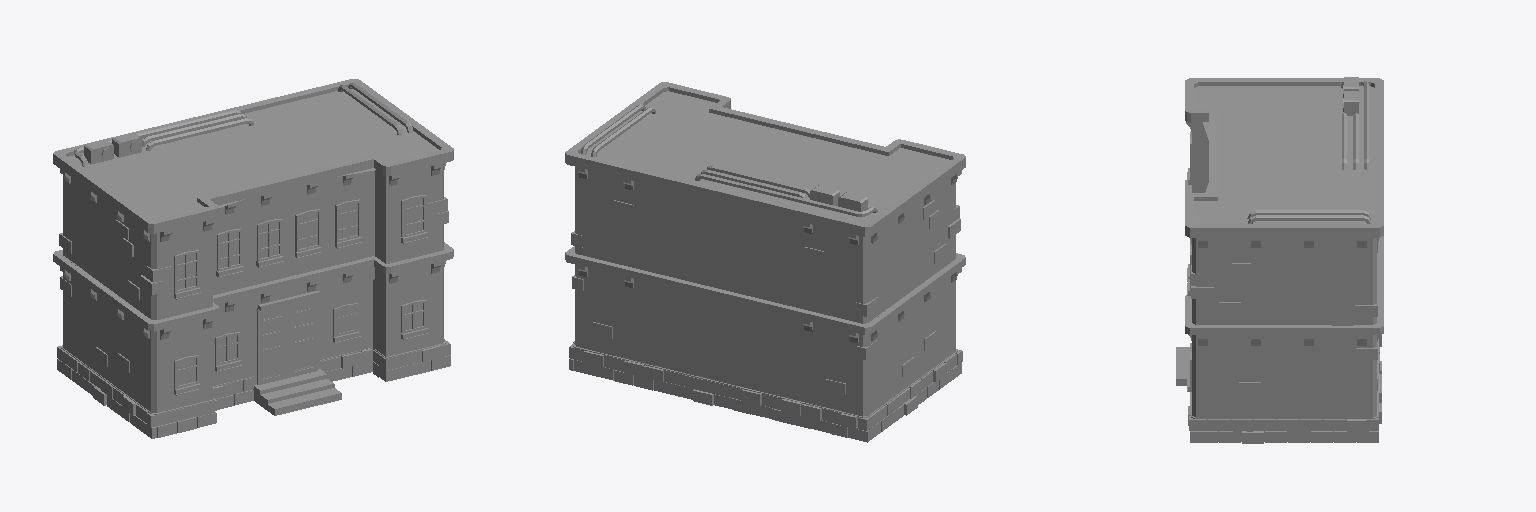
Rendered from 2Story_Wide.obj.
The picture shows the model from 3 angles: view 1: azimuth 30°, elevation 25°; view 2: azimuth 150°, elevation 25°; view 3: azimuth 270°, elevation 25°; orthographic projection.
Parts seen in each view (by area): view 1: 2Story_Wide_Cube.032; view 2: 2Story_Wide_Cube.032; view 3: 2Story_Wide_Cube.032.
Part boxes in pixels (x1,y1,x2,y2): 2Story_Wide_Cube.032: (53, 79, 453, 438); 2Story_Wide_Cube.032: (565, 82, 965, 442); 2Story_Wide_Cube.032: (1176, 77, 1383, 443).
Bounding box in the file's own units: 3.83 × 2.75 × 2.26.